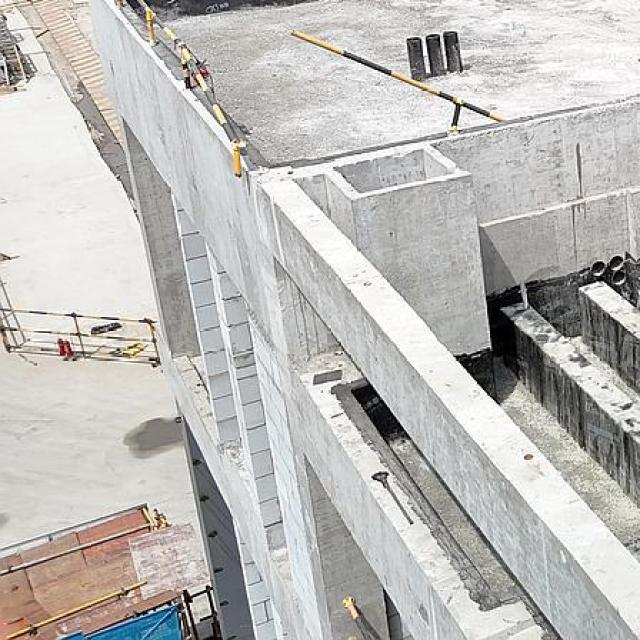edge_guardrail: (290, 29, 503, 135), (136, 0, 243, 179), (342, 597, 375, 640)
